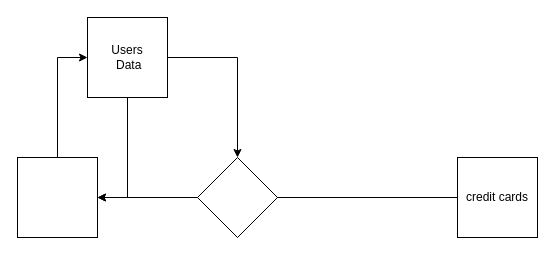
This 555x255 diagram has some shape labels left out. Here are the shapes that lost their labels. From the top down, the box of each, then its label:
(16, 156, 98, 238): Loads Data
(196, 156, 278, 238): Encryption
